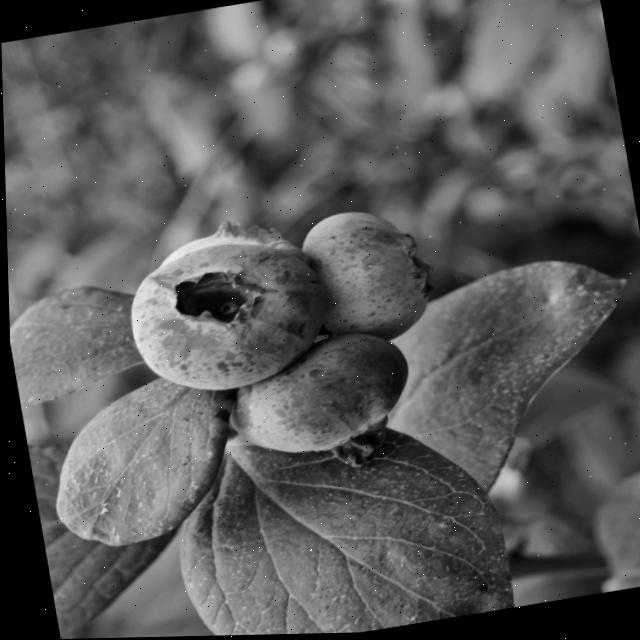Semi-RipeBlueBerry: (118, 231, 337, 401)
